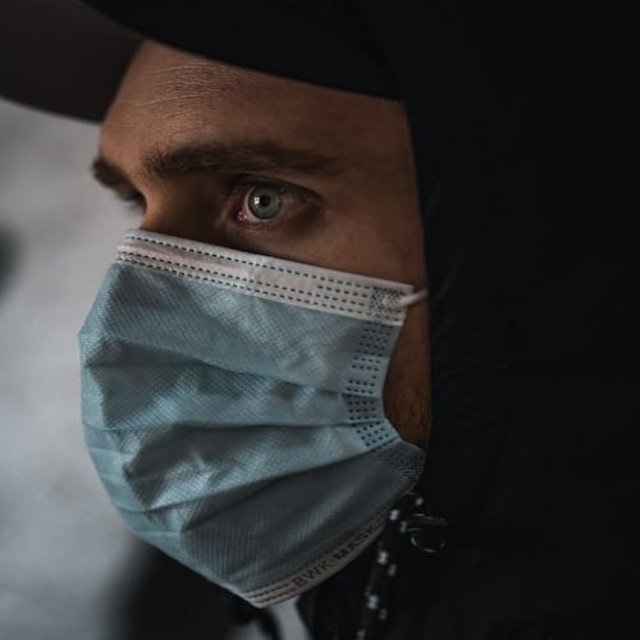Mascara: (77, 222, 433, 609)
Sin_gafas: (79, 132, 412, 247)
